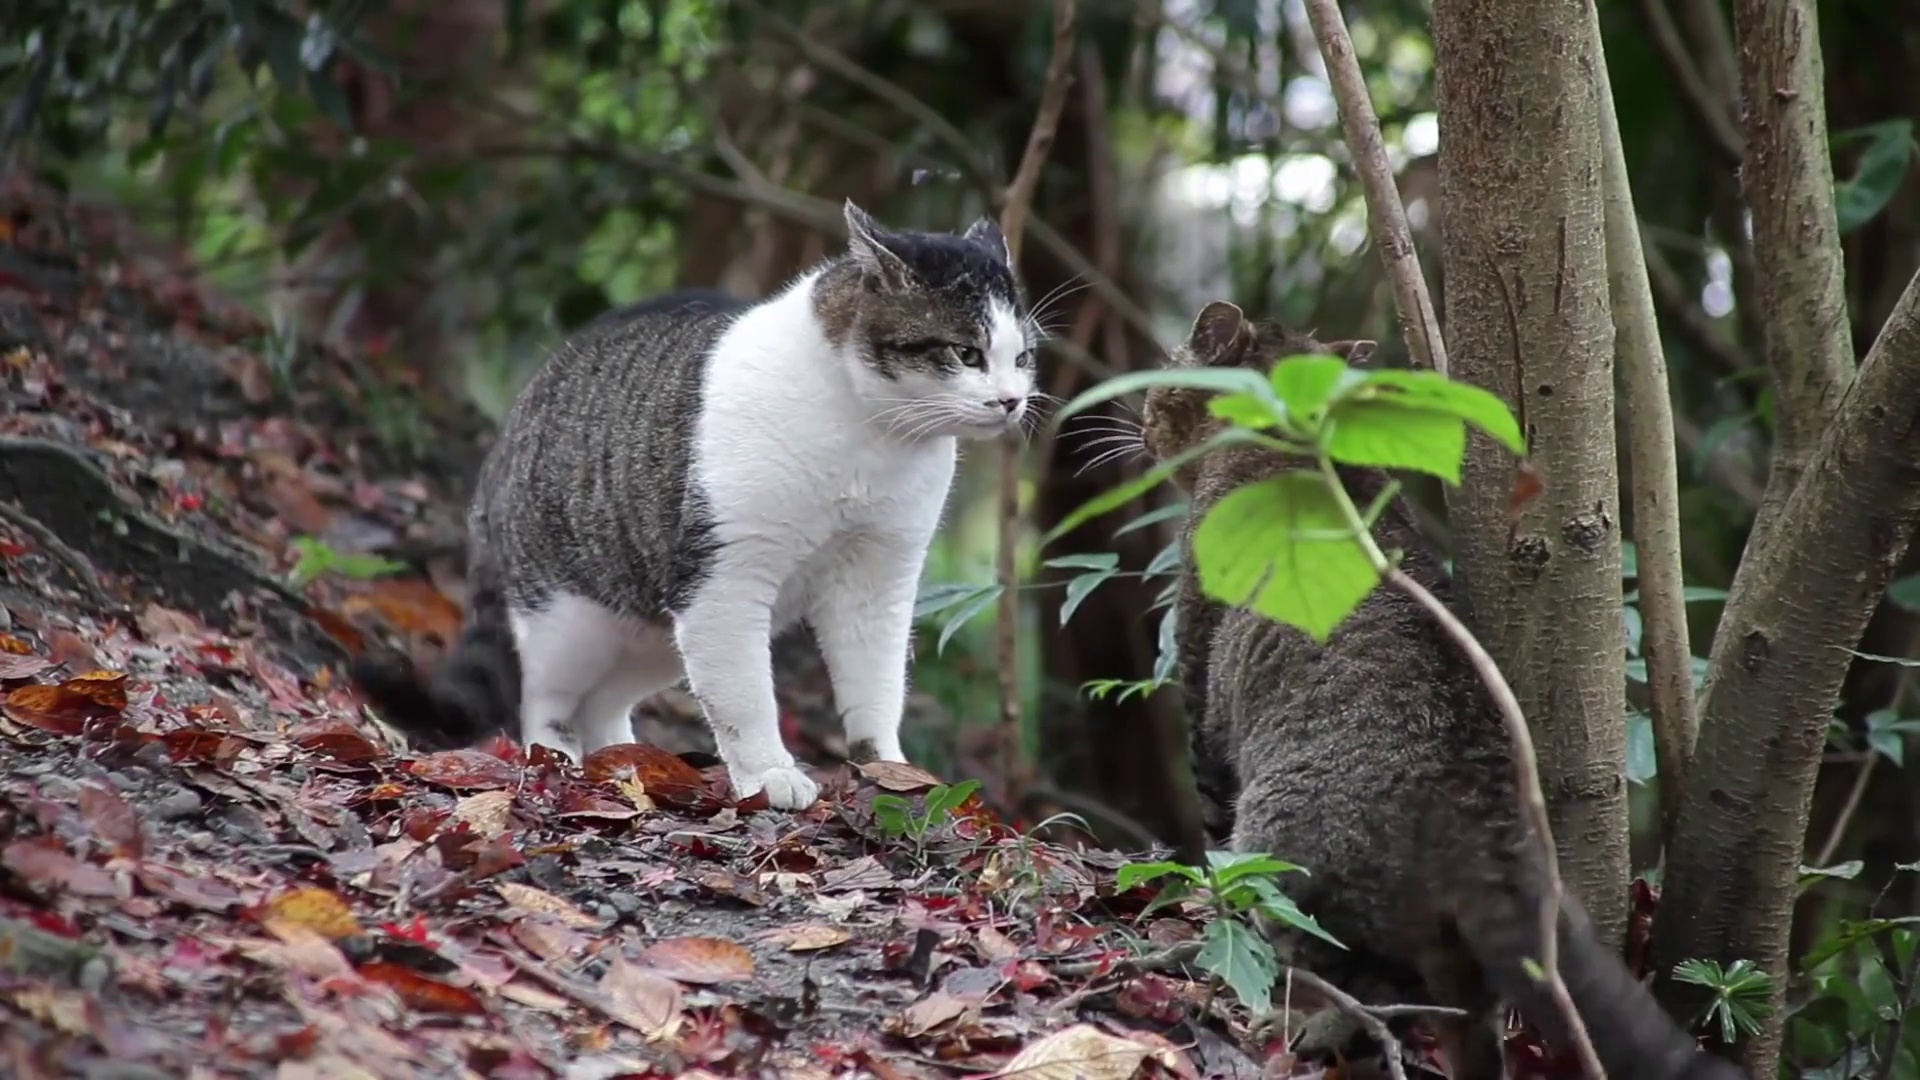black-white: (348, 193, 1038, 816)
pure black: (1137, 299, 1567, 1080)
